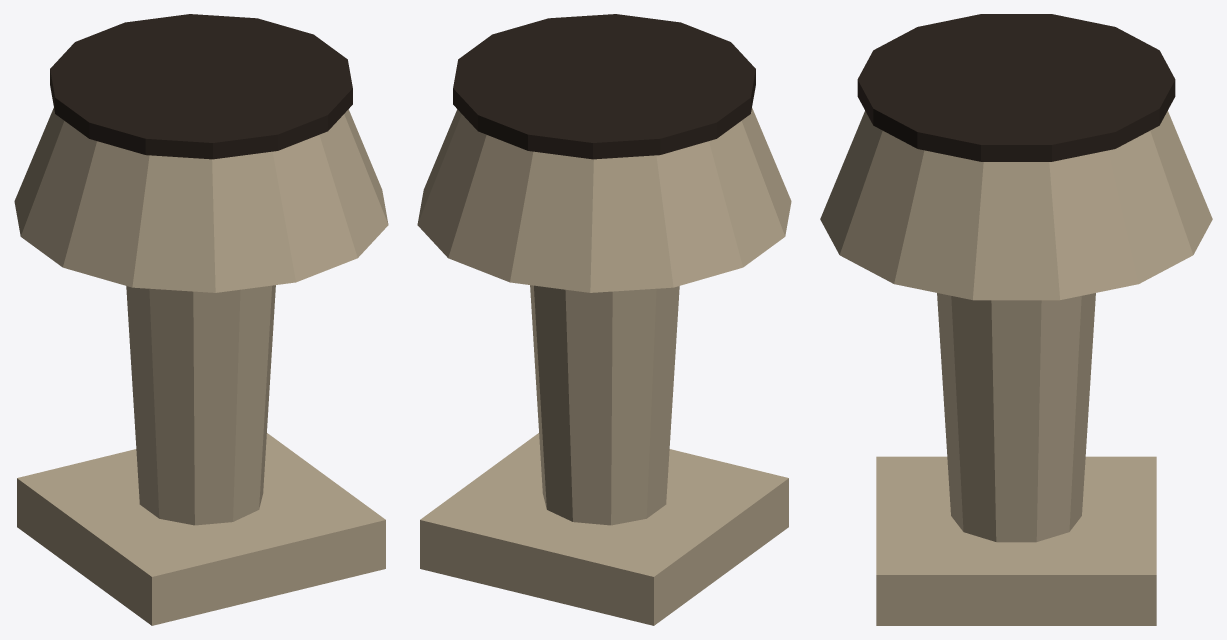
The model's file is pia.glb.
3 views of the same model, side by side, from view 1: azimuth 30°, elevation 25°; view 2: azimuth 150°, elevation 25°; view 3: azimuth 270°, elevation 25° (orthographic). The views are drawn at different scales.
Parts seen in each view (by area): view 1: pia; view 2: pia; view 3: pia.
Part boxes in pixels (box(x1,y1,x2,y2)): pia: box(14, 14, 388, 625); pia: box(417, 14, 791, 625); pia: box(820, 14, 1212, 625).
Bounding box in the file's own units: 0.8189 × 1.15 × 0.84.
